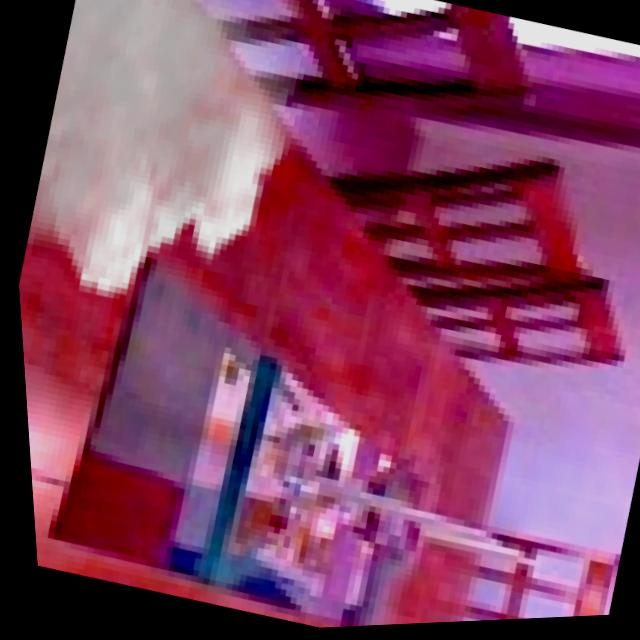smoke: (0, 0, 346, 345)
